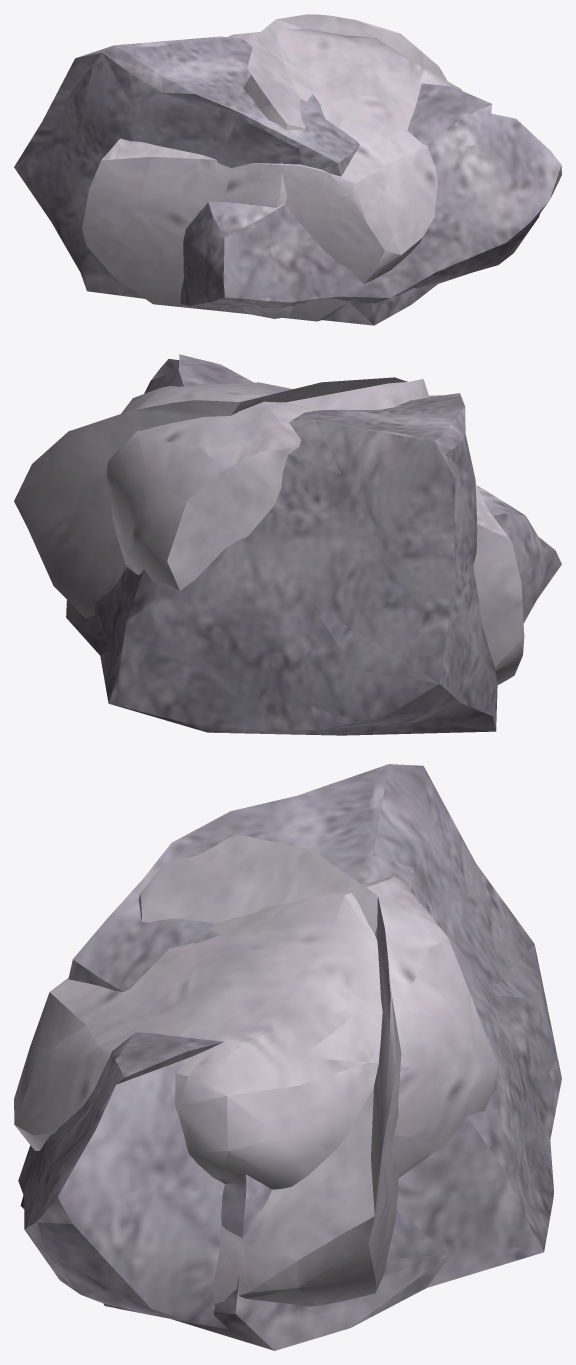
Rendered from central-rocks.glb.
The picture shows the model from 3 angles, top to bottom: view 1: azimuth 30°, elevation 25°; view 2: azimuth 150°, elevation 25°; view 3: azimuth 270°, elevation 25°; orthographic projection. The views are drawn at different scales.
Visible parts, largest first — view 1: 11, 43, 27, 61; view 2: 27, 11, 61, 43; view 3: 11, 27, 43, 61.
Part boxes in pixels (x1,y1,x2,y2): 11: (82,28,461,321); 43: (180,83,561,308); 27: (14,36,437,325); 61: (241,14,468,318); 27: (66,393,497,735); 11: (106,382,524,684); 61: (14,377,429,618); 43: (144,354,561,623); 11: (14,876,497,1189); 27: (20,764,561,1350); 43: (18,1032,227,1328); 61: (104,834,401,1311).
Size of the model in its own units: 2.01 by 1.11 by 1.6.
Materials: 1 (1 with a texture image).
